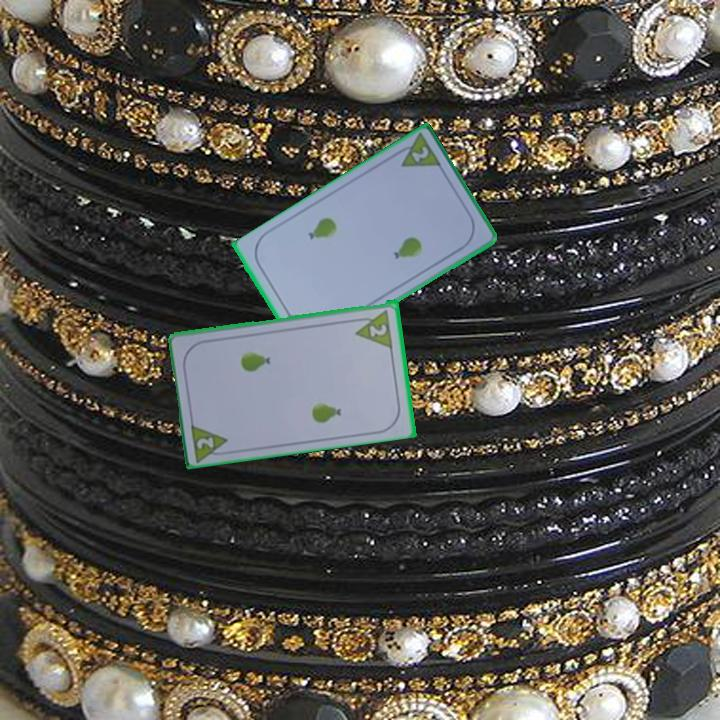2p: (390, 131, 445, 171), (351, 306, 395, 349), (193, 433, 217, 452)
